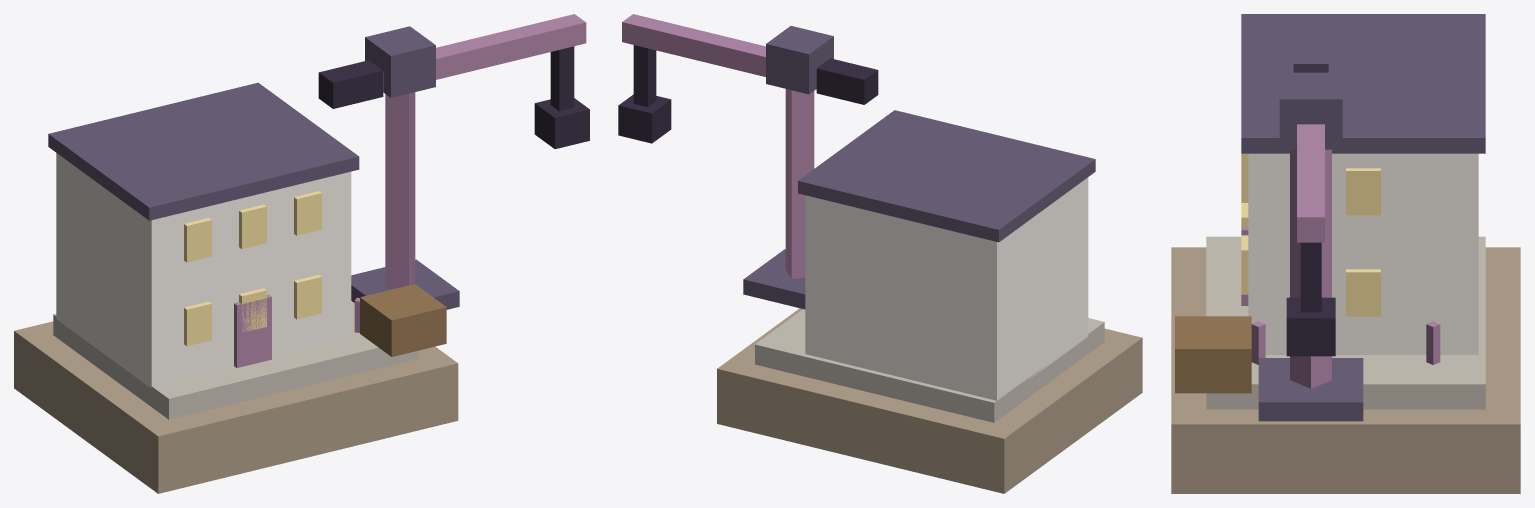
Rendered from city-g1.glb.
3 views of the same model, side by side, from view 1: azimuth 30°, elevation 25°; view 2: azimuth 150°, elevation 25°; view 3: azimuth 270°, elevation 25° (orthographic). The views are drawn at different scales.
Parts seen in each view (by area): view 1: city-g1; view 2: city-g1; view 3: city-g1.
Part boxes in pixels (left/top/right/bottom): city-g1: left=14, top=14, right=589, bottom=493; city-g1: left=618, top=14, right=1142, bottom=493; city-g1: left=1171, top=14, right=1520, bottom=493.
Bounding box in the file's own units: 1.92 × 1.29 × 1.
